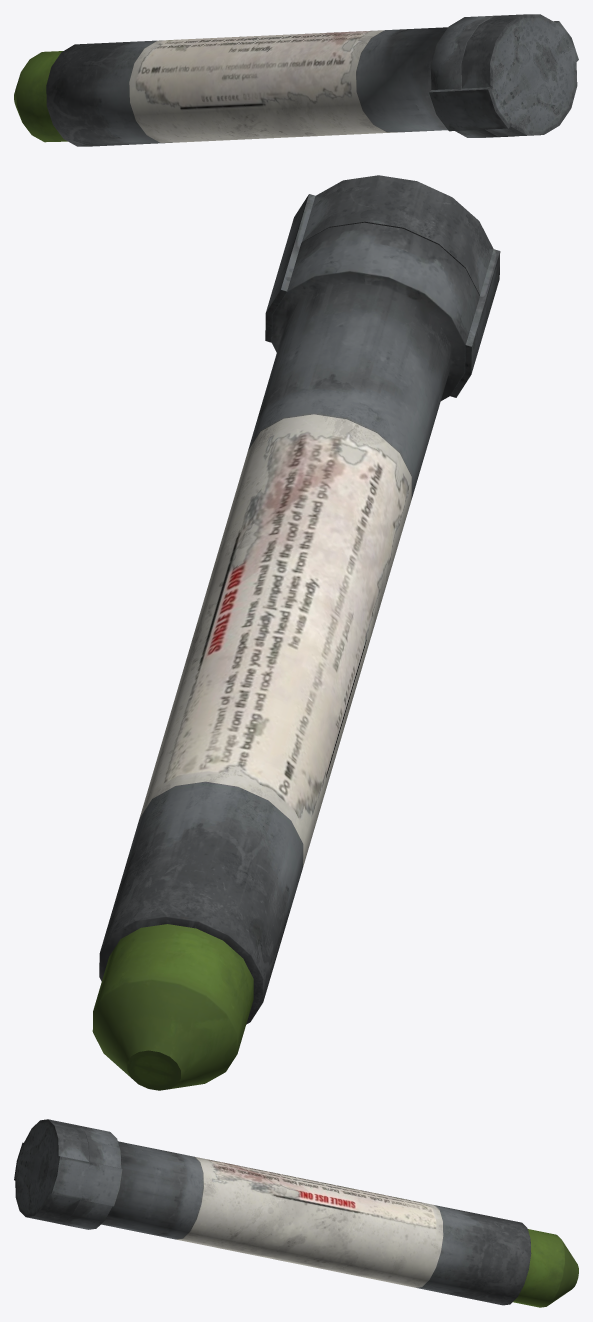
File: syringe.glb
3 views of the same model, one above another, from view 1: azimuth 30°, elevation 25°; view 2: azimuth 150°, elevation 25°; view 3: azimuth 270°, elevation 25° (orthographic). The views are drawn at different scales.
Visible parts, largest first — view 1: syringe; view 2: syringe; view 3: syringe.
Part boxes in pixels (bbox=[...]): syringe: bbox=[14, 14, 578, 146]; syringe: bbox=[92, 175, 500, 1090]; syringe: bbox=[14, 1119, 578, 1307].
Bounding box in the file's own units: 0.0616 × 0.0672 × 0.14.
Materials: 1 (1 with a texture image).
